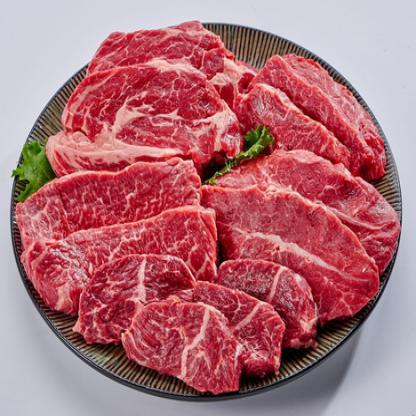beef: (65, 35, 393, 383)
